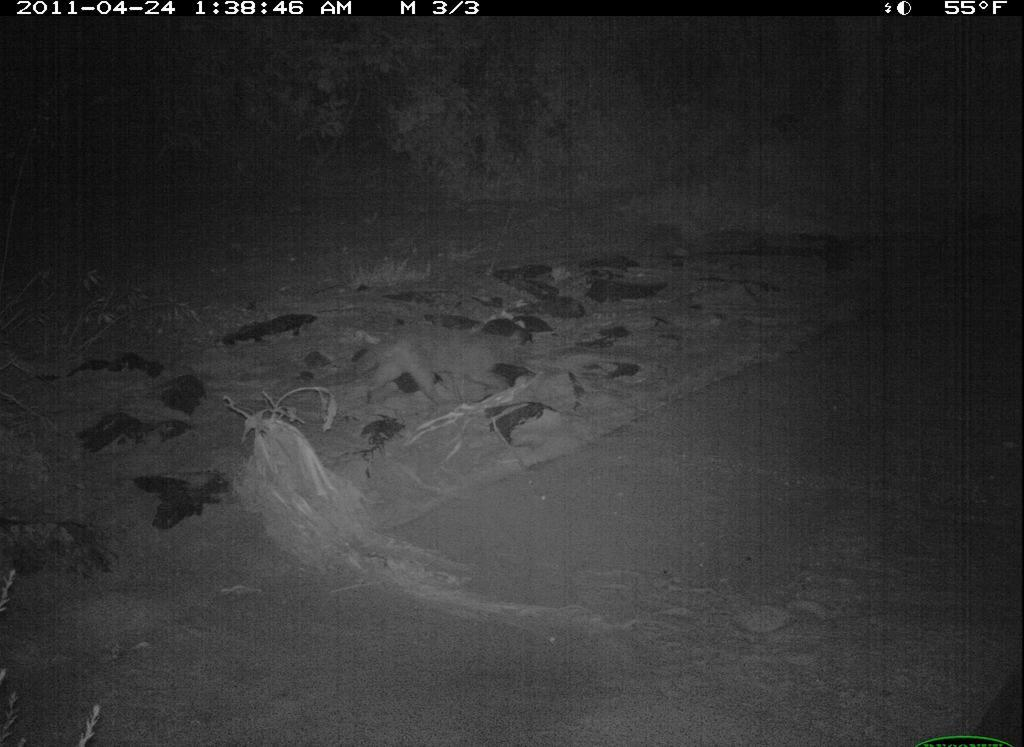cat: (306, 327, 546, 414)
